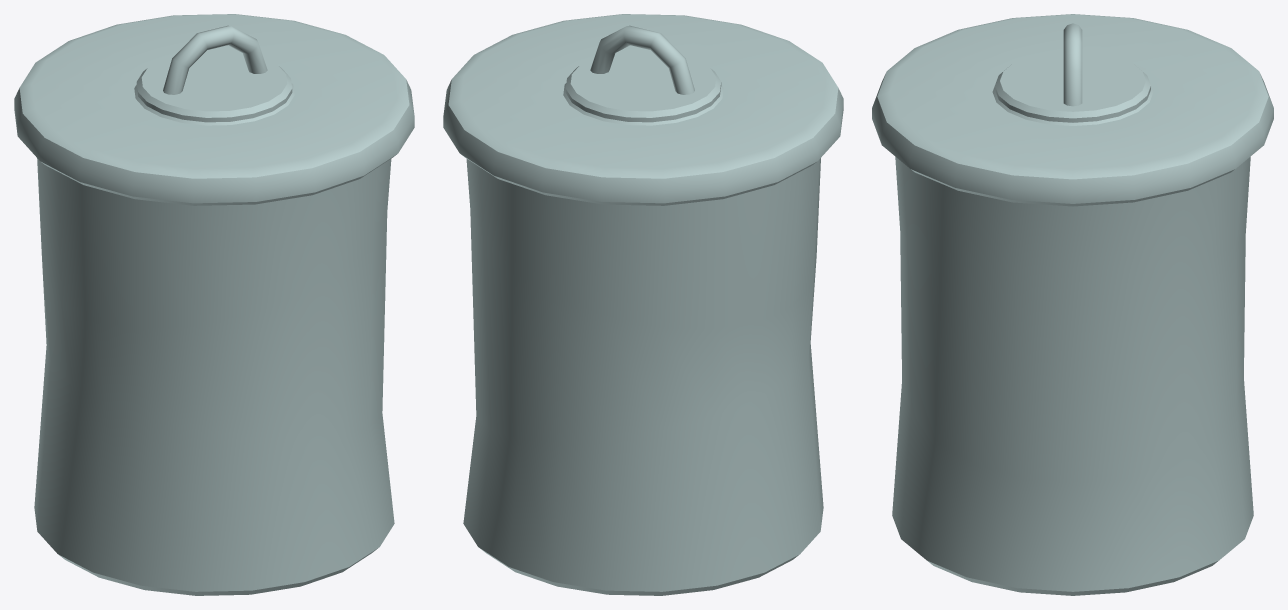
The model's file is trash can.fbx.
3 renders of one model, left to right at view 1: azimuth 30°, elevation 25°; view 2: azimuth 150°, elevation 25°; view 3: azimuth 270°, elevation 25°, orthographic.
Visible parts, largest first — view 1: pTorus3; view 2: pTorus3; view 3: pTorus3.
Part boxes in pixels (x1=…): pTorus3: x1=14, y1=14, x2=414, y2=595; pTorus3: x1=443, y1=14, x2=843, y2=595; pTorus3: x1=872, y1=14, x2=1273, y2=595.
Size of the model in its own units: 102 by 138 by 102.
